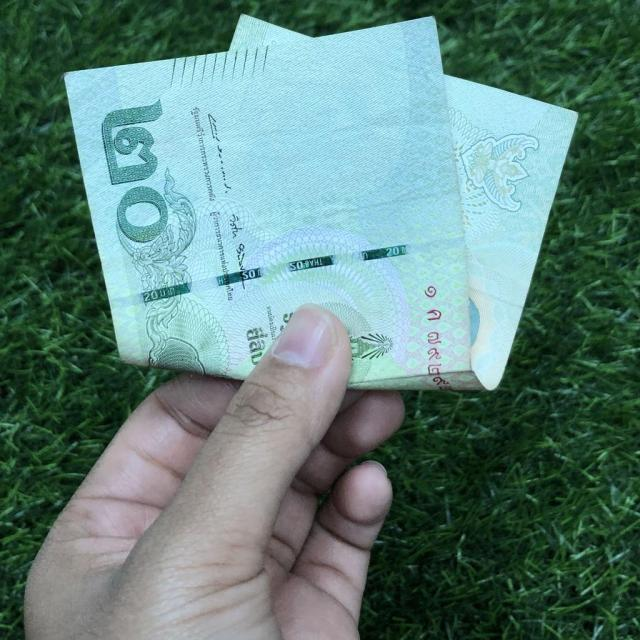THAI20: (62, 15, 574, 394)
